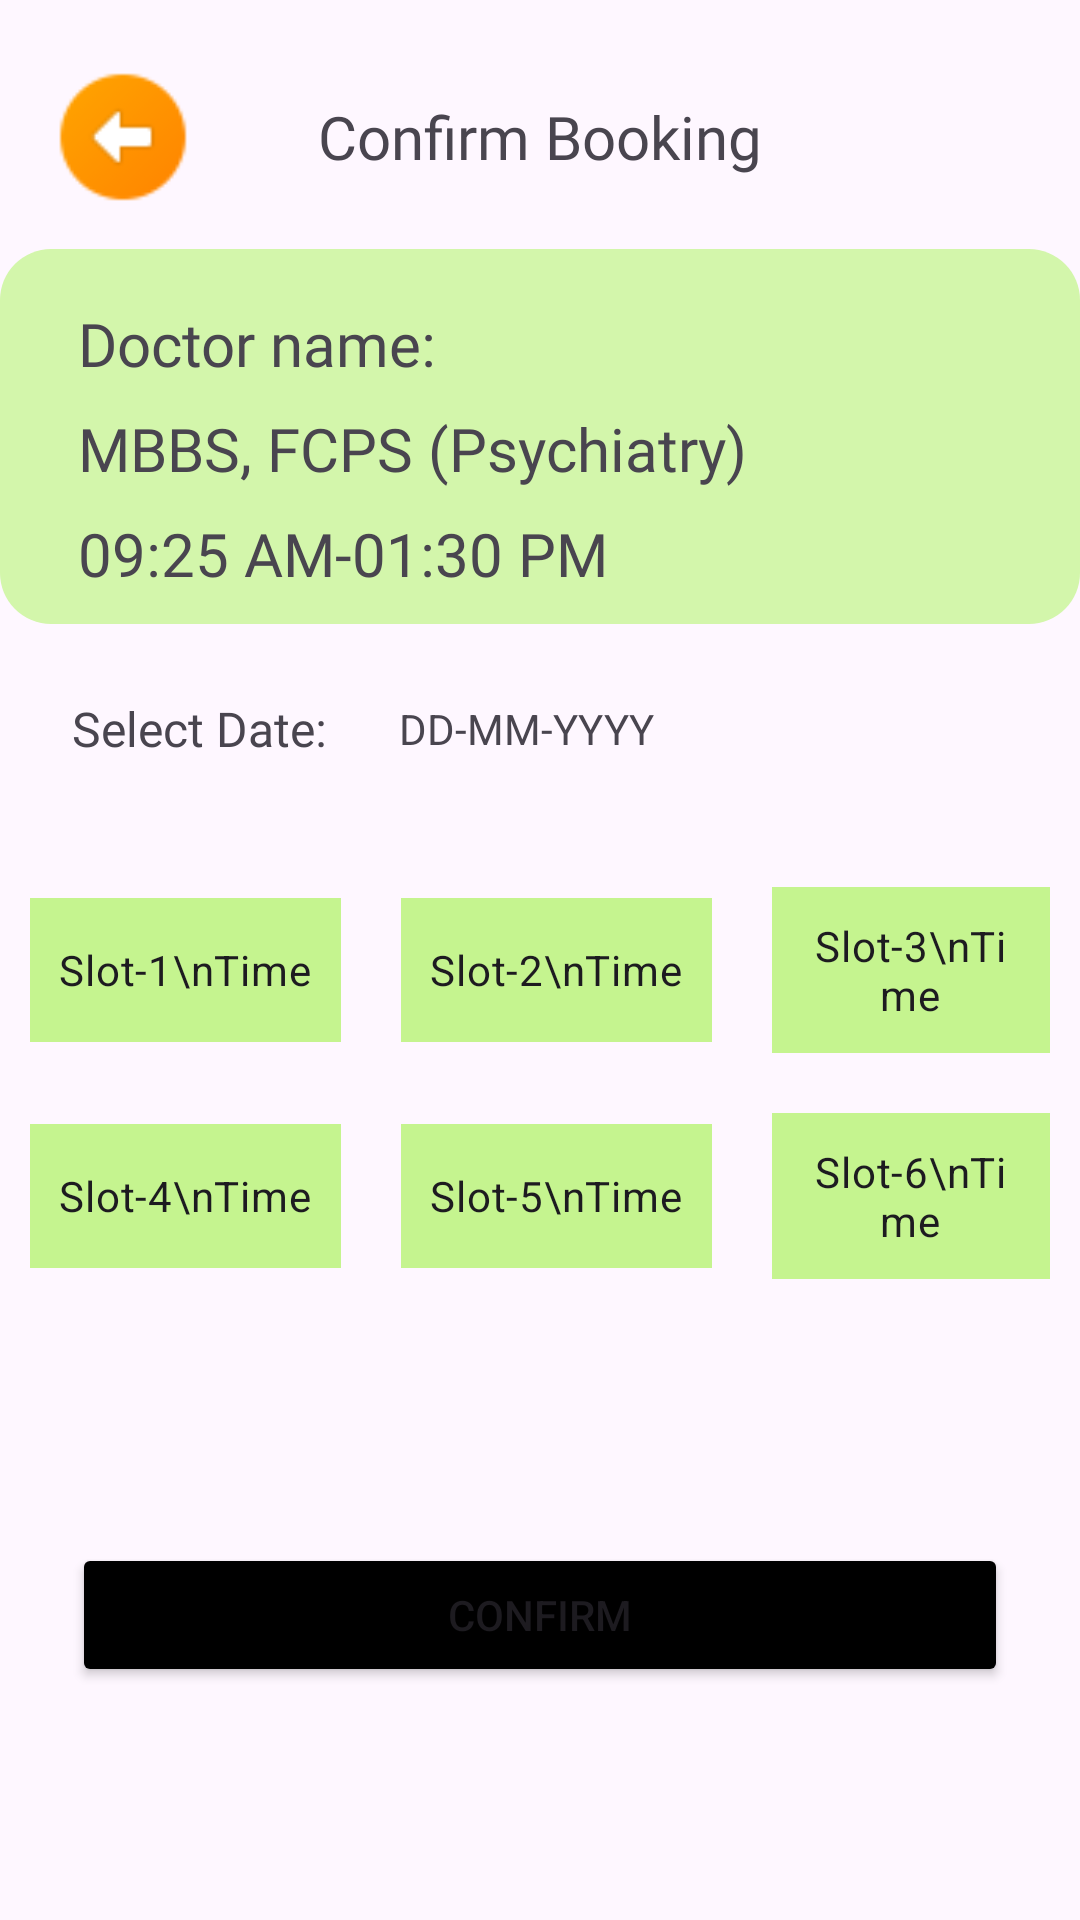

Named icons in this screenshot (1080px×1920px) and their centers, [x,y]:
back: [123,137]
